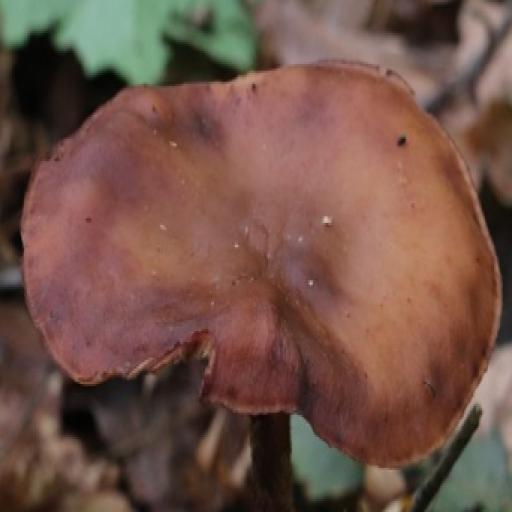Shiitake Mushroom: (0, 0, 512, 471)
